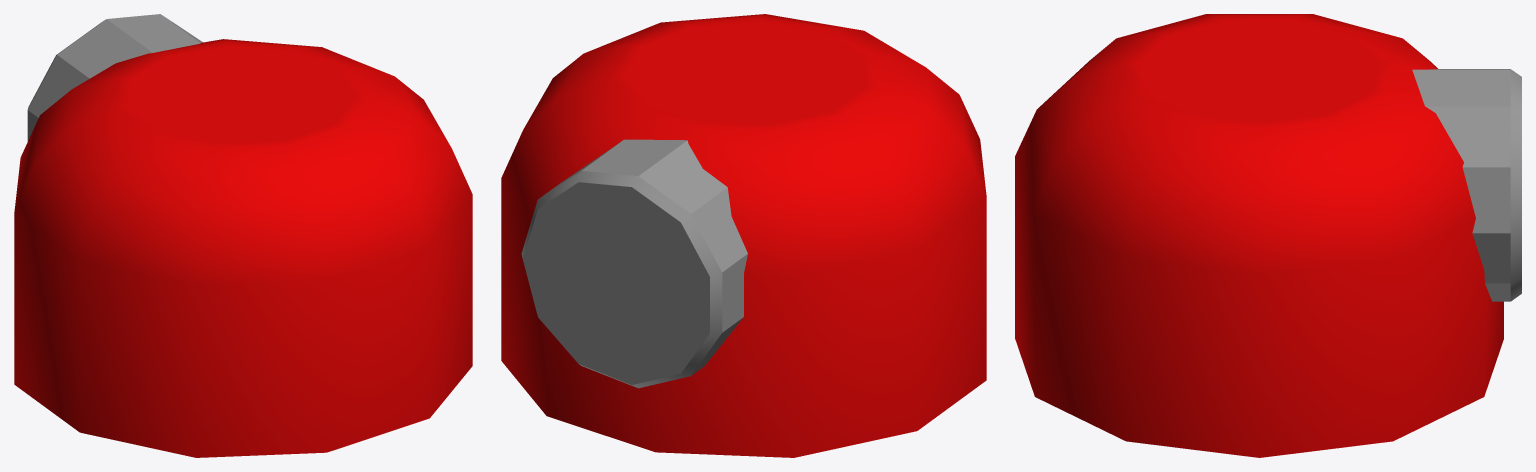
File: Player 1 cockpit.fbx
3 renders of one model, left to right at view 1: azimuth 30°, elevation 25°; view 2: azimuth 150°, elevation 25°; view 3: azimuth 270°, elevation 25°, orthographic. The views are drawn at different scales.
Visible parts, largest first — view 1: Object002; view 2: Object002; view 3: Object002.
Part boxes in pixels (x1=…): Object002: x1=14, y1=14, x2=472, y2=457; Object002: x1=501, y1=14, x2=986, y2=457; Object002: x1=1015, y1=14, x2=1521, y2=457.
Size of the model in its own units: 62.16 by 40.04 by 65.08.
